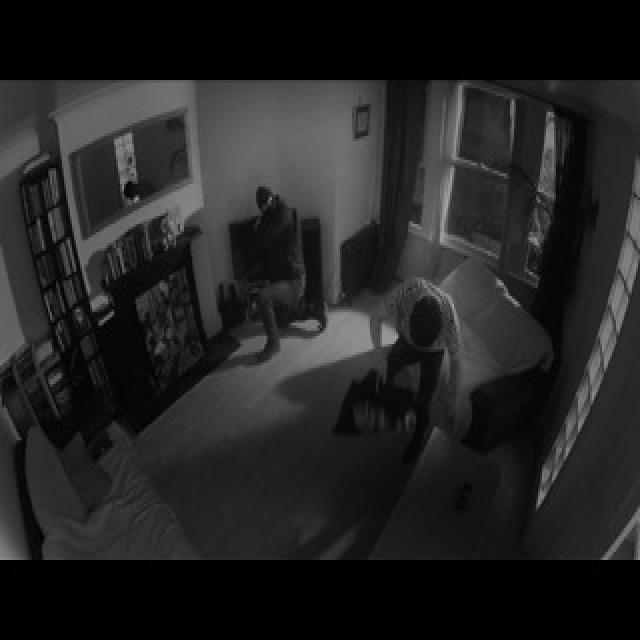thief: (379, 267, 481, 444), (252, 158, 307, 358)
